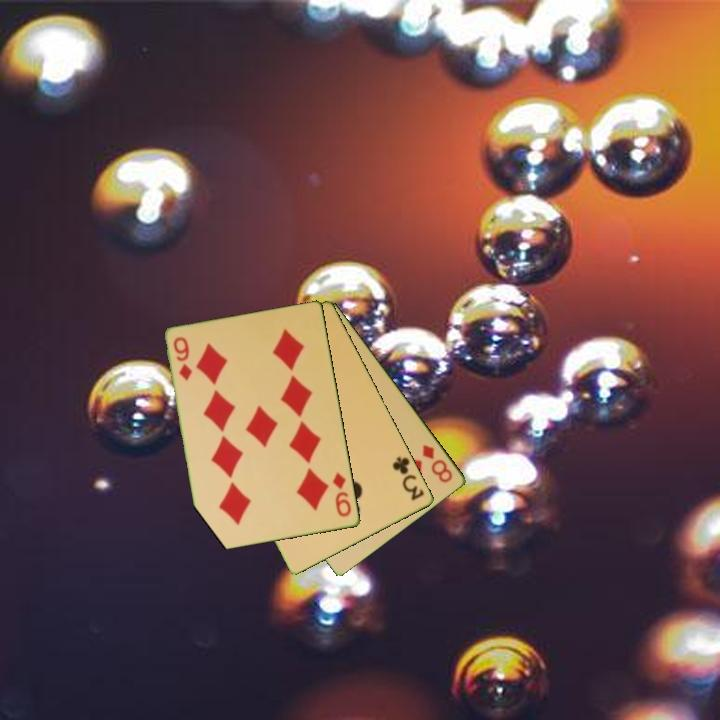3c: (389, 453, 428, 504)
8d: (419, 441, 456, 486)
9d: (170, 333, 196, 383), (329, 469, 354, 520)
